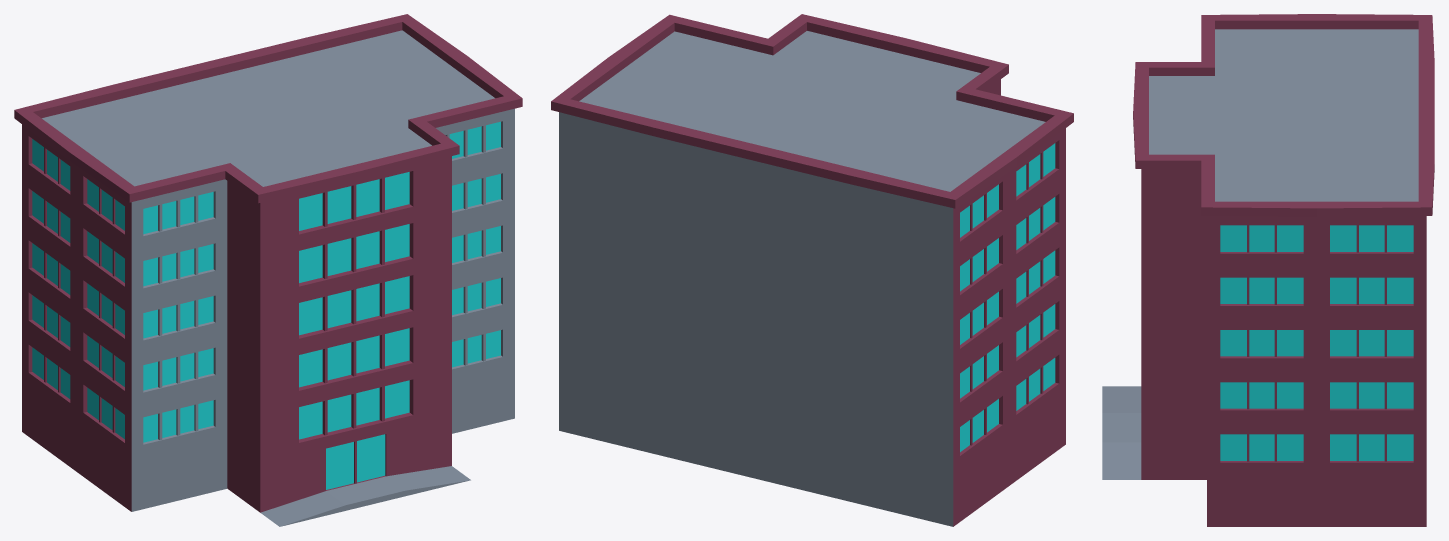
File: Building1_1.fbx
3 renders of one model, left to right at view 1: azimuth 30°, elevation 25°; view 2: azimuth 150°, elevation 25°; view 3: azimuth 270°, elevation 25°, orthographic. The views are drawn at different scales.
Visible parts, largest first — view 1: Building1_1; view 2: Building1_1; view 3: Building1_1.
Boxes of the visible parts, x1,y1,x2,y2 form: Building1_1: (14, 14, 522, 526); Building1_1: (551, 14, 1073, 526); Building1_1: (1102, 14, 1434, 526).
Bounding box in the file's own units: 3202 × 2473 × 2315.
